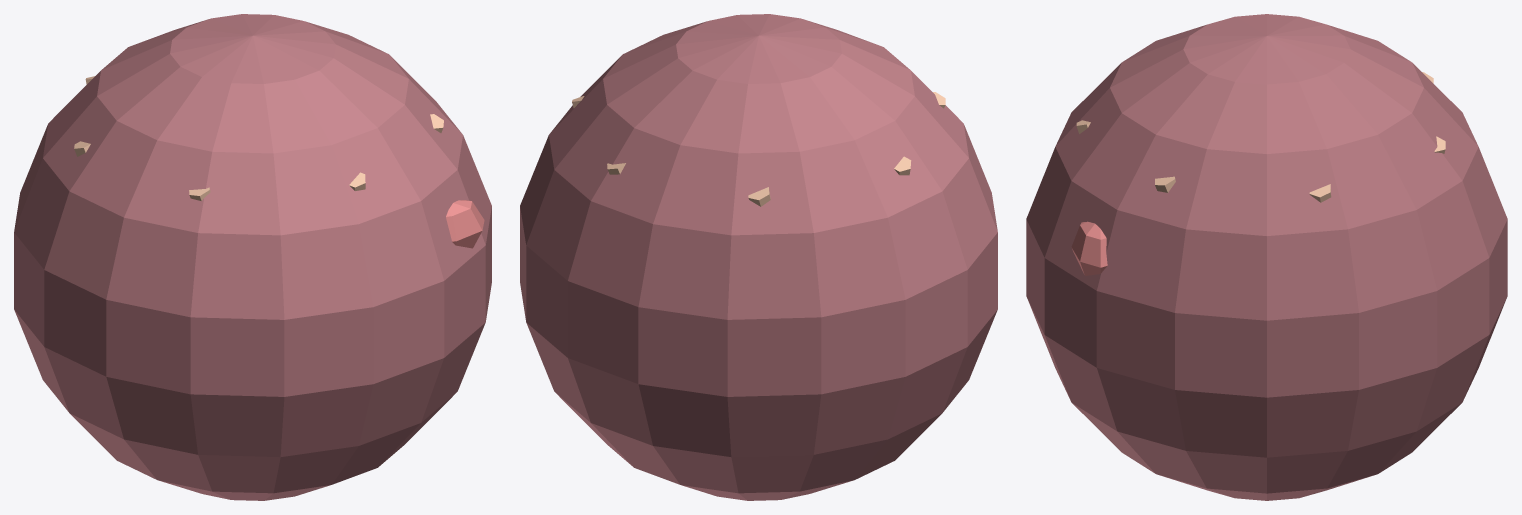
The model's file is meteorito_rojo.glb.
The picture shows the model from 3 angles, left to right: view 1: azimuth 30°, elevation 25°; view 2: azimuth 150°, elevation 25°; view 3: azimuth 270°, elevation 25°; orthographic projection.
Visible parts, largest first — view 1: meteorito_rojo; view 2: meteorito_rojo; view 3: meteorito_rojo.
Boxes of the visible parts, <box> form: meteorito_rojo: <box>14,14,491,500</box>; meteorito_rojo: <box>520,14,997,500</box>; meteorito_rojo: <box>1026,14,1507,500</box>.
Size of the model in its own units: 0.9848 by 1 by 0.9848.
